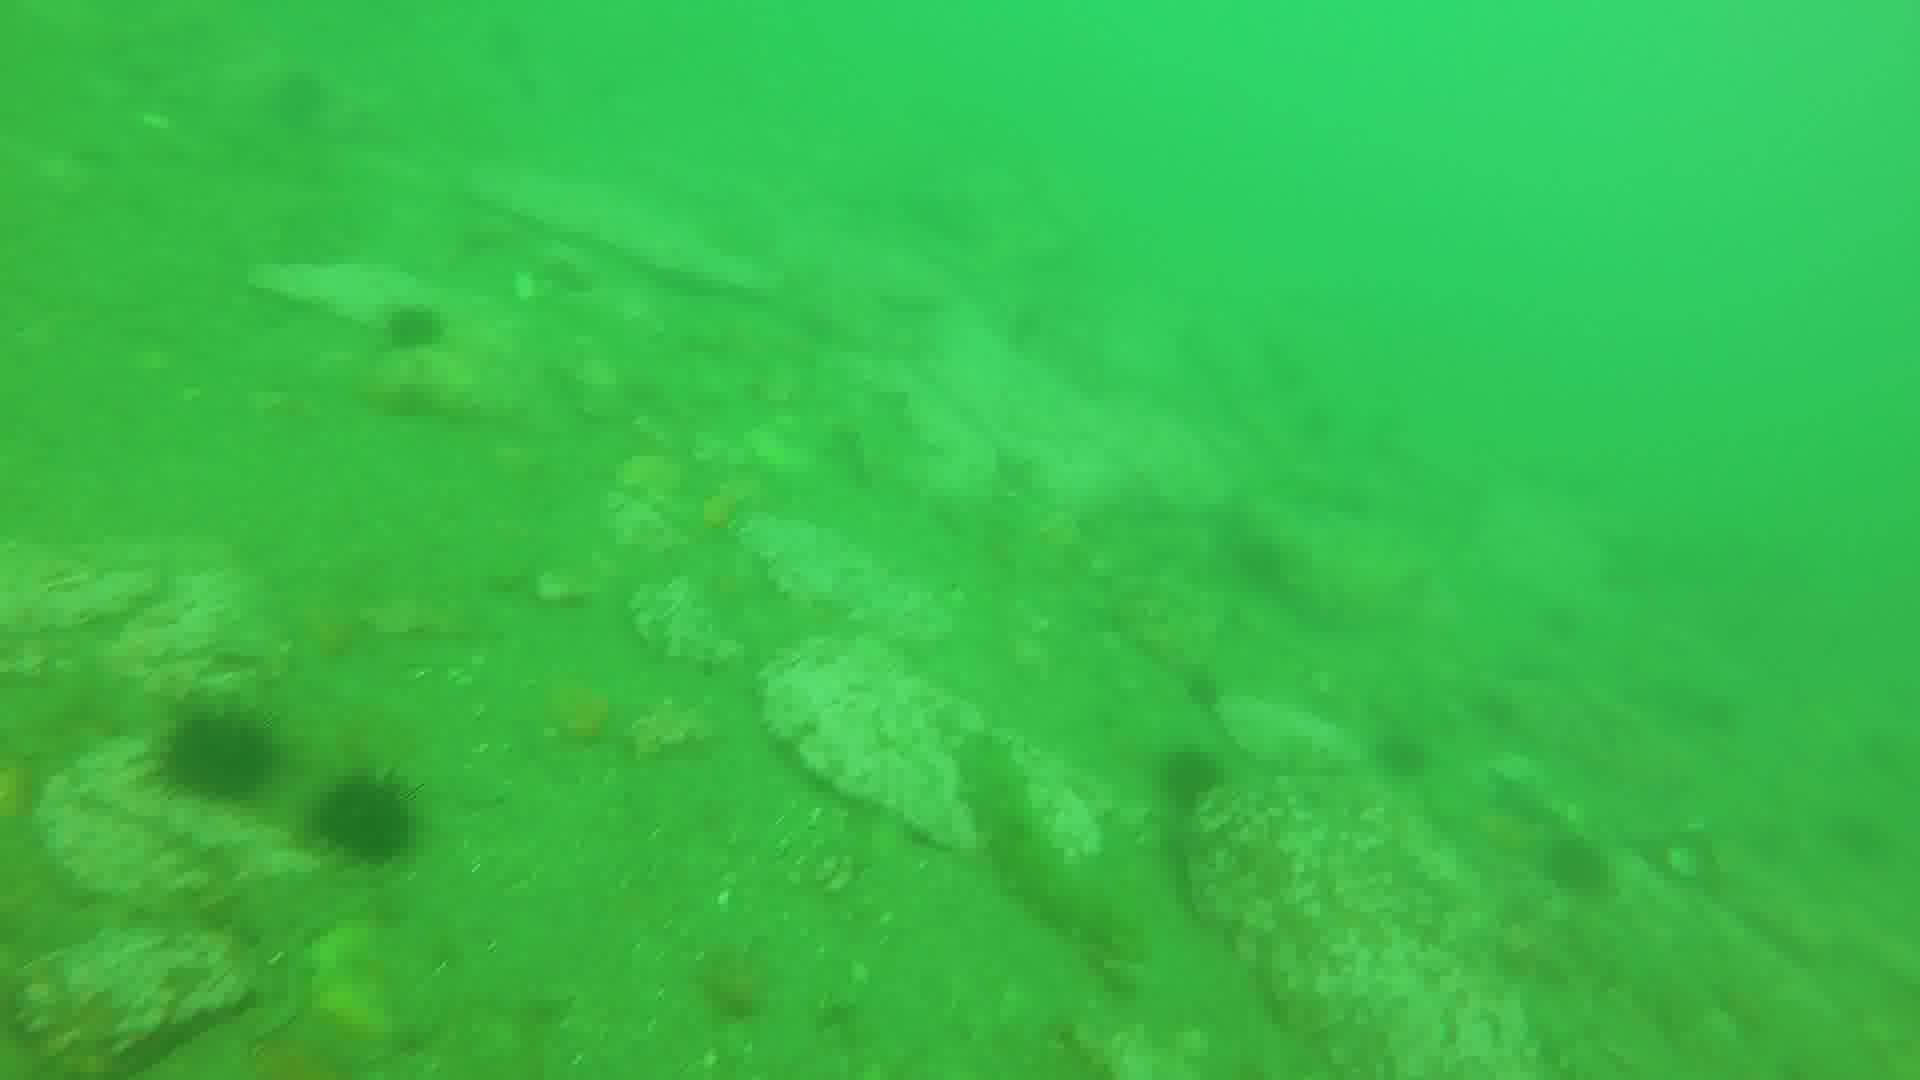echinus: (306, 767, 419, 862), (167, 713, 276, 803), (1164, 749, 1228, 807), (1549, 837, 1611, 889), (382, 306, 443, 349)
holothurian: (953, 728, 1131, 944)
